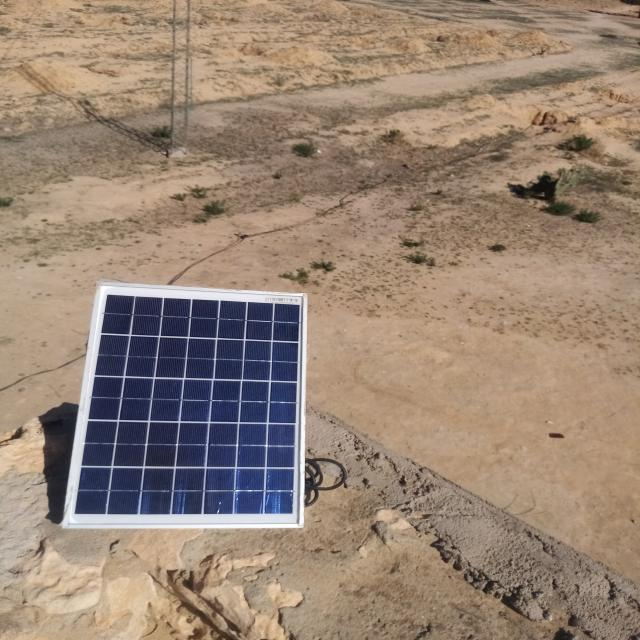Normal Solar Panel: (59, 286, 304, 528)
